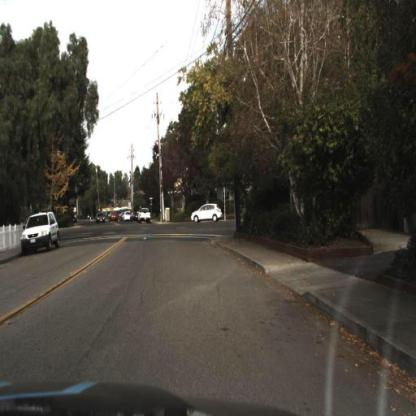car: (22, 207, 62, 261), (189, 201, 226, 228), (136, 205, 154, 228)
trafficLight-Red: (158, 174, 166, 198), (161, 183, 167, 201)
